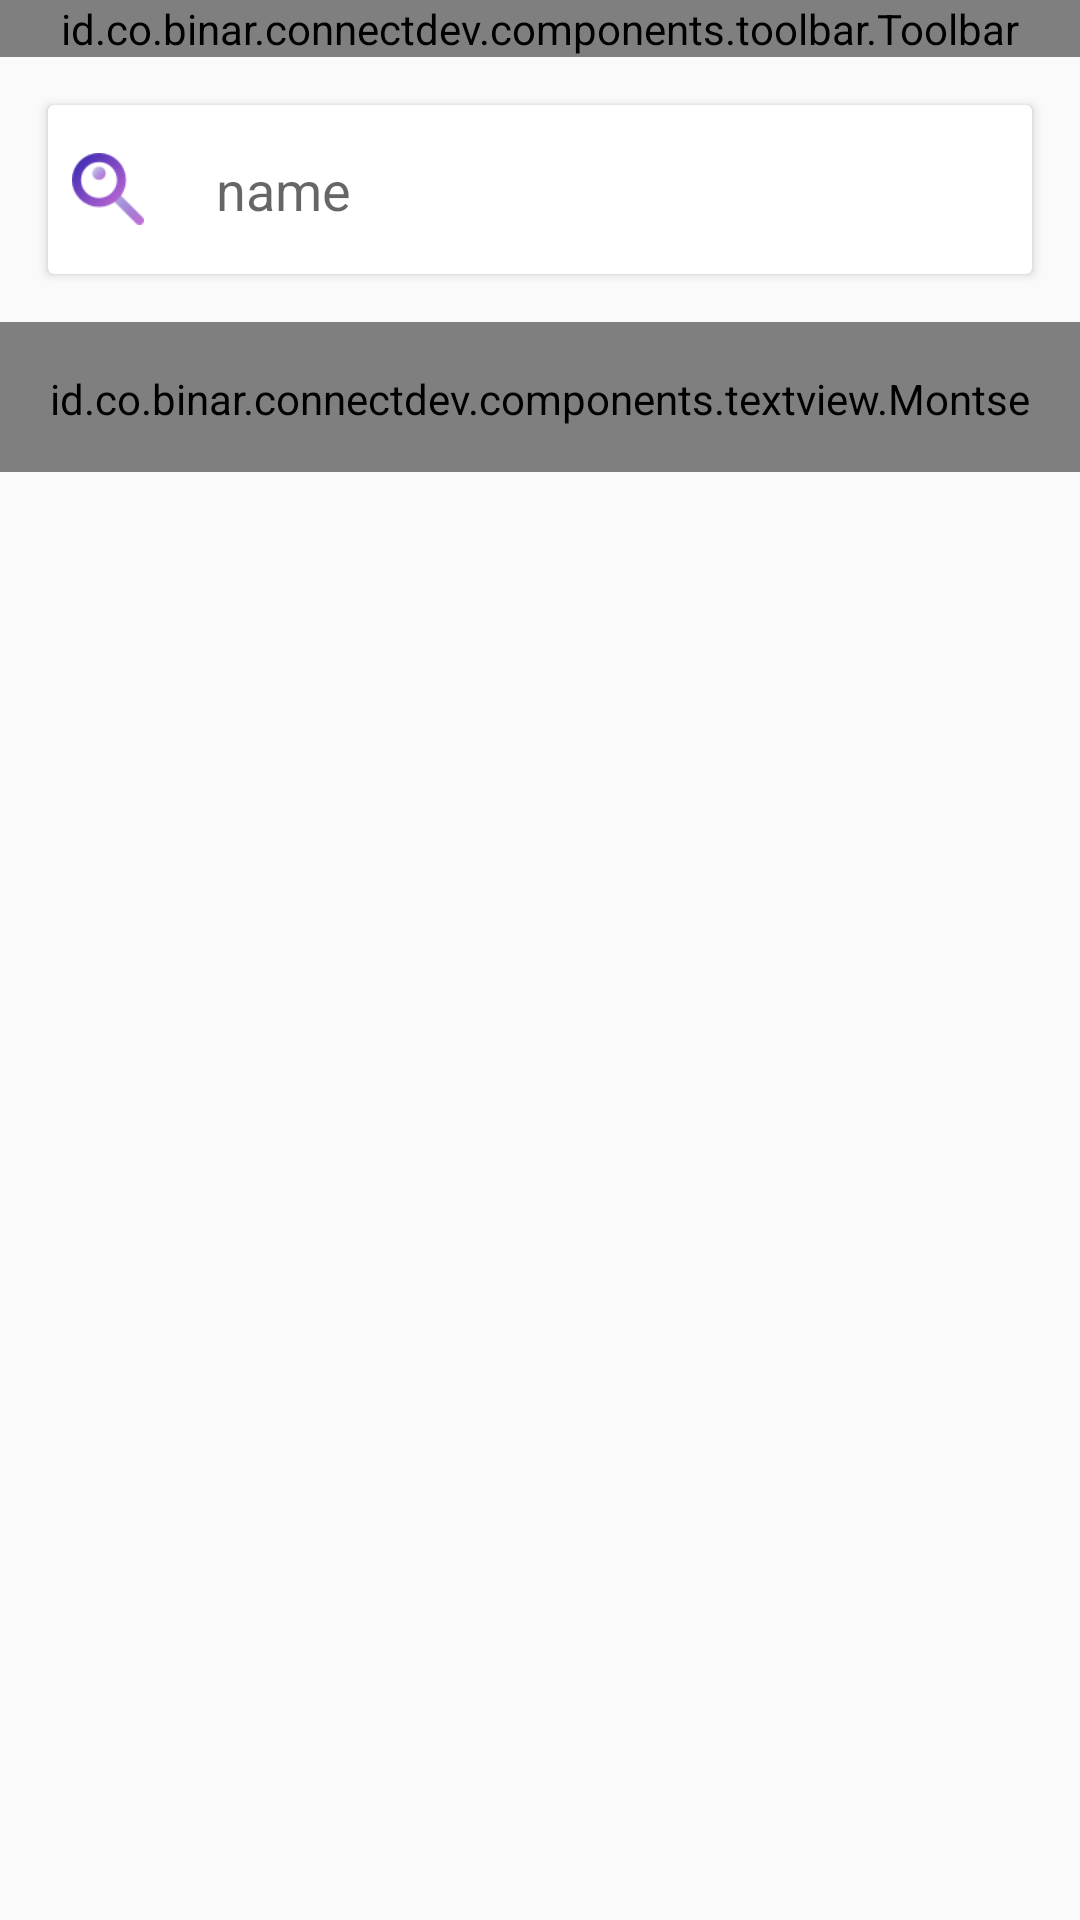

Icon bounding boxes for this 1080*1920 phone screenshot, format (x1, y1, x2, y2):
search: (72, 153, 144, 225)
